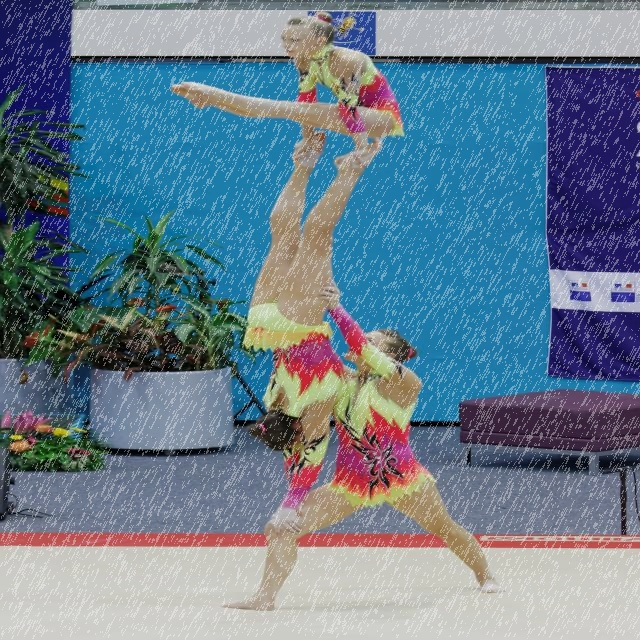pessoa: (216, 276, 508, 612), (237, 127, 385, 540), (168, 8, 408, 168)
